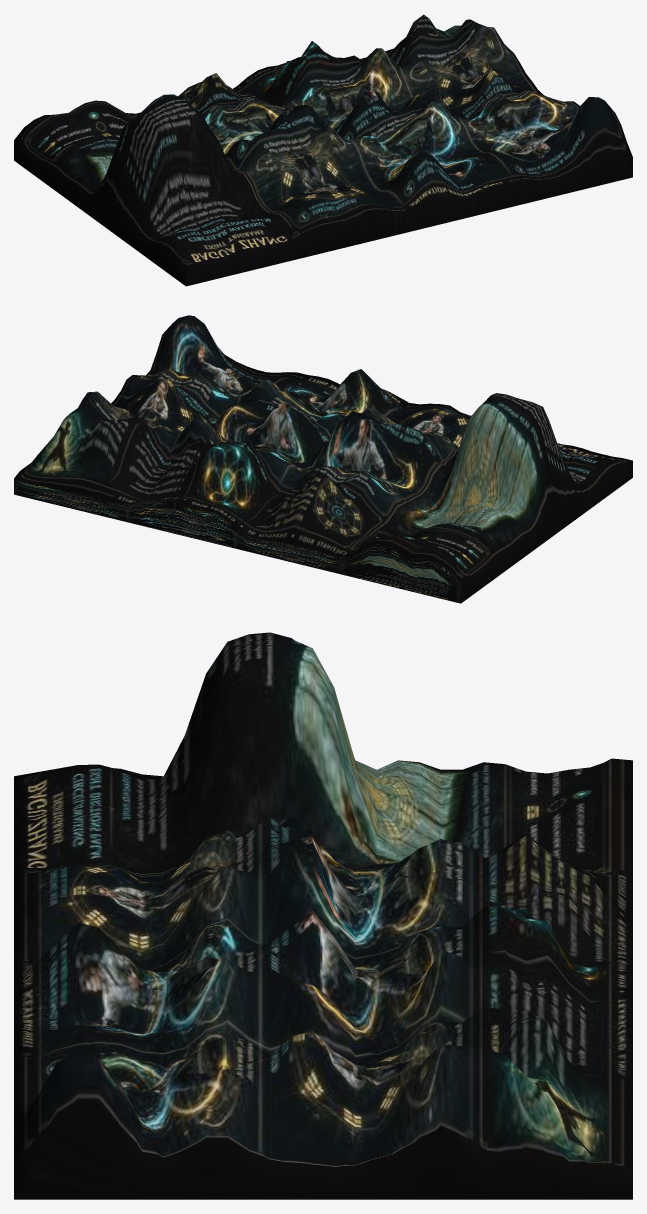
Rendered from CUL_41_Bagua_Zhang.glb.
The picture shows the model from 3 angles, top to bottom: view 1: azimuth 30°, elevation 25°; view 2: azimuth 150°, elevation 25°; view 3: azimuth 270°, elevation 25°; orthographic projection. The views are drawn at different scales.
Parts seen in each view (by area): view 1: CUL_41_Bagua_Zhang; view 2: CUL_41_Bagua_Zhang; view 3: CUL_41_Bagua_Zhang.
Boxes of the visible parts, bbox=[...] form: CUL_41_Bagua_Zhang: bbox=[14, 14, 632, 286]; CUL_41_Bagua_Zhang: bbox=[14, 315, 632, 603]; CUL_41_Bagua_Zhang: bbox=[14, 632, 632, 1199].
Size of the model in its own units: 2 by 0.51 by 1.33.
1 material, 1 textured.
